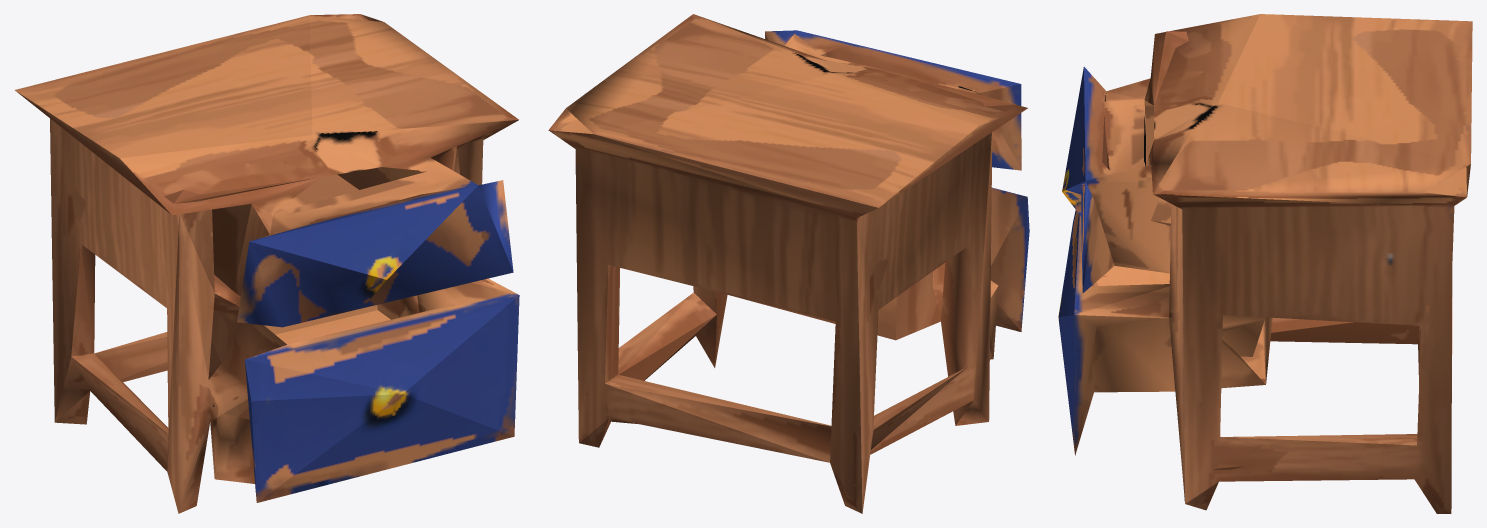
Rendered from teacher-desk-broken.glb.
3 views of the same model, side by side, from view 1: azimuth 30°, elevation 25°; view 2: azimuth 150°, elevation 25°; view 3: azimuth 270°, elevation 25° (orthographic). The views are drawn at different scales.
Parts seen in each view (by area): view 1: geometry_0.001; view 2: geometry_0.001; view 3: geometry_0.001.
Part boxes in pixels (x1,y1,x2,y2): geometry_0.001: (15, 14, 519, 513); geometry_0.001: (548, 14, 1029, 513); geometry_0.001: (1058, 14, 1472, 513).
Bounding box in the file's own units: 0.9592 × 0.9012 × 0.9706.
1 material, 1 textured.
